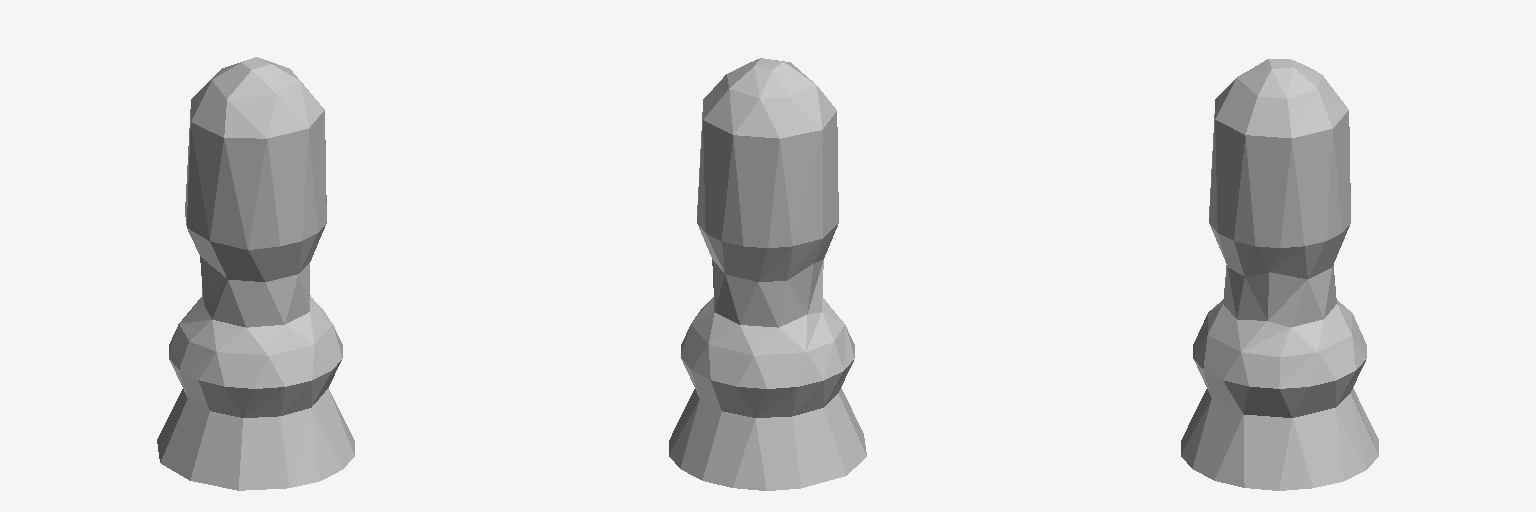
The model's file is light_7.obj.
3 views of the same model, side by side, from view 1: azimuth 30°, elevation 25°; view 2: azimuth 150°, elevation 25°; view 3: azimuth 270°, elevation 25° (orthographic).
Visible parts, largest first — view 1: Cylinder001.006_Untitled.014; view 2: Cylinder001.006_Untitled.014; view 3: Cylinder001.006_Untitled.014.
Boxes of the visible parts, x1=… form: Cylinder001.006_Untitled.014: x1=157, y1=57, x2=354, y2=490; Cylinder001.006_Untitled.014: x1=669, y1=58, x2=866, y2=490; Cylinder001.006_Untitled.014: x1=1181, y1=59, x2=1378, y2=490.
Size of the model in its own units: 0.2348 by 0.4952 by 0.2317.